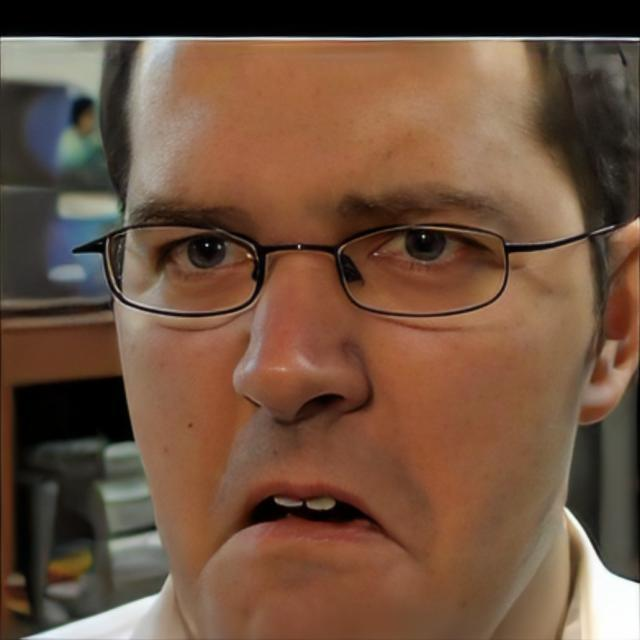disgust: (111, 41, 582, 638)
